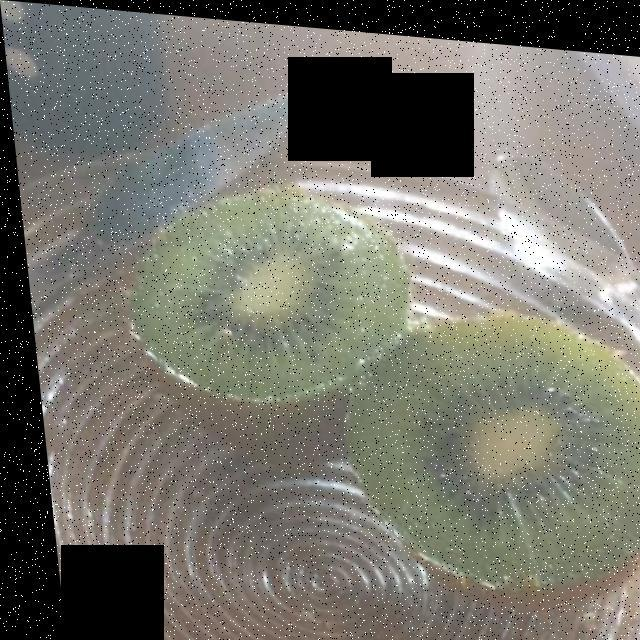kiwi: (118, 164, 640, 625)
